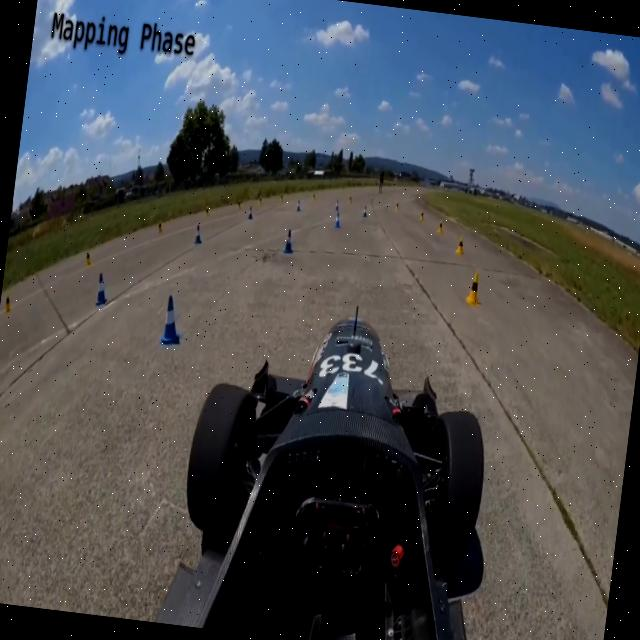blue_cone: (160, 294, 186, 347), (94, 270, 110, 308), (284, 227, 296, 253), (194, 223, 204, 245), (334, 211, 342, 229)
yellow_cone: (466, 270, 482, 306), (454, 235, 466, 254)
